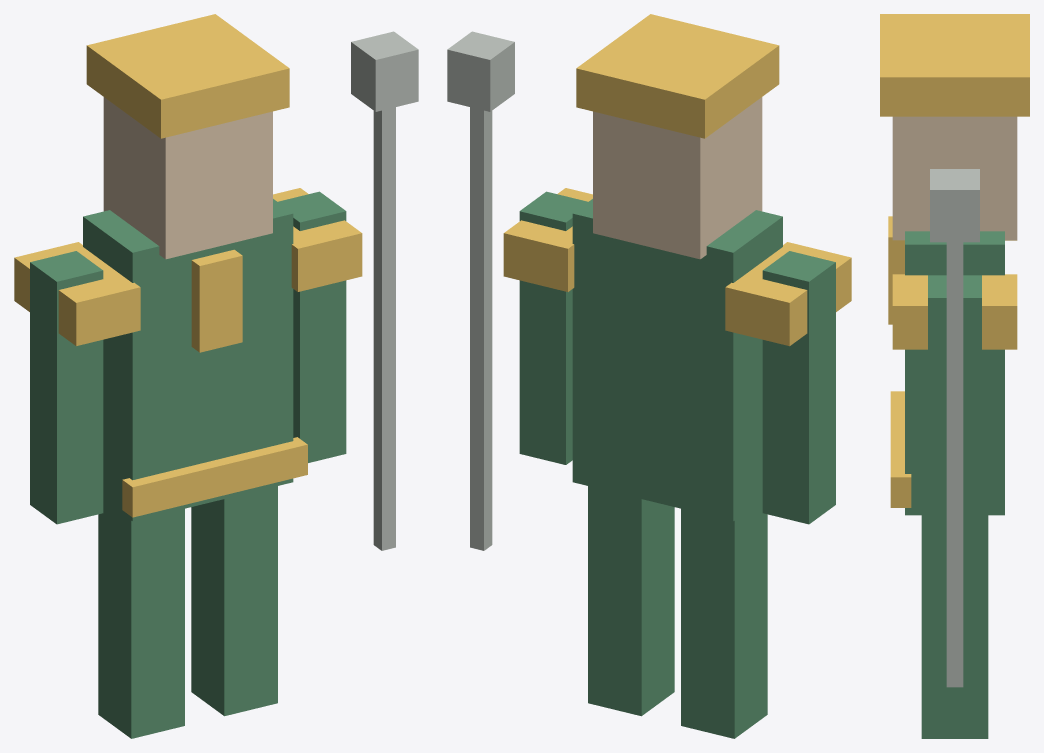
The model's file is 18_orin_spirebound_cartographer_of_sanctuary.glb.
3 renders of one model, left to right at view 1: azimuth 30°, elevation 25°; view 2: azimuth 150°, elevation 25°; view 3: azimuth 270°, elevation 25°, orthographic.
Visible parts, largest first — view 1: Orin Spirebound, Cartographer of Sanctuary; view 2: Orin Spirebound, Cartographer of Sanctuary; view 3: Orin Spirebound, Cartographer of Sanctuary.
Boxes of the visible parts, x1,y1,x2,y2 form: Orin Spirebound, Cartographer of Sanctuary: (14, 14, 418, 738); Orin Spirebound, Cartographer of Sanctuary: (447, 14, 851, 738); Orin Spirebound, Cartographer of Sanctuary: (880, 14, 1029, 738).
Bounding box in the file's own units: 0.955 × 1.64 × 0.3387.
